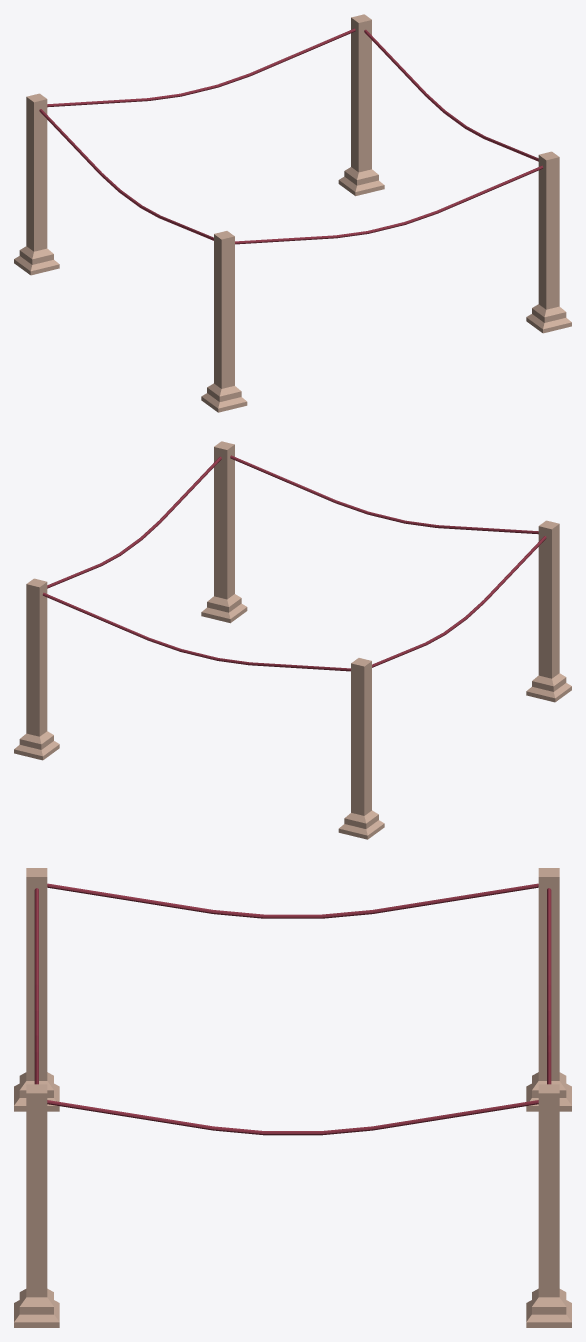
Rendered from RopeSquare.glb.
3 renders of one model, top to bottom at view 1: azimuth 30°, elevation 25°; view 2: azimuth 150°, elevation 25°; view 3: azimuth 270°, elevation 25°, orthographic. The views are drawn at different scales.
Parts seen in each view (by area): view 1: RopeBarrierFull; view 2: RopeBarrierFull; view 3: RopeBarrierFull.
Part boxes in pixels (bbox=[...]): RopeBarrierFull: bbox=[14, 14, 571, 412]; RopeBarrierFull: bbox=[14, 441, 571, 839]; RopeBarrierFull: bbox=[14, 868, 571, 1327].
Bounding box in the file's own units: 2 × 0.9072 × 2.
Materials: 1 (1 with a texture image).
